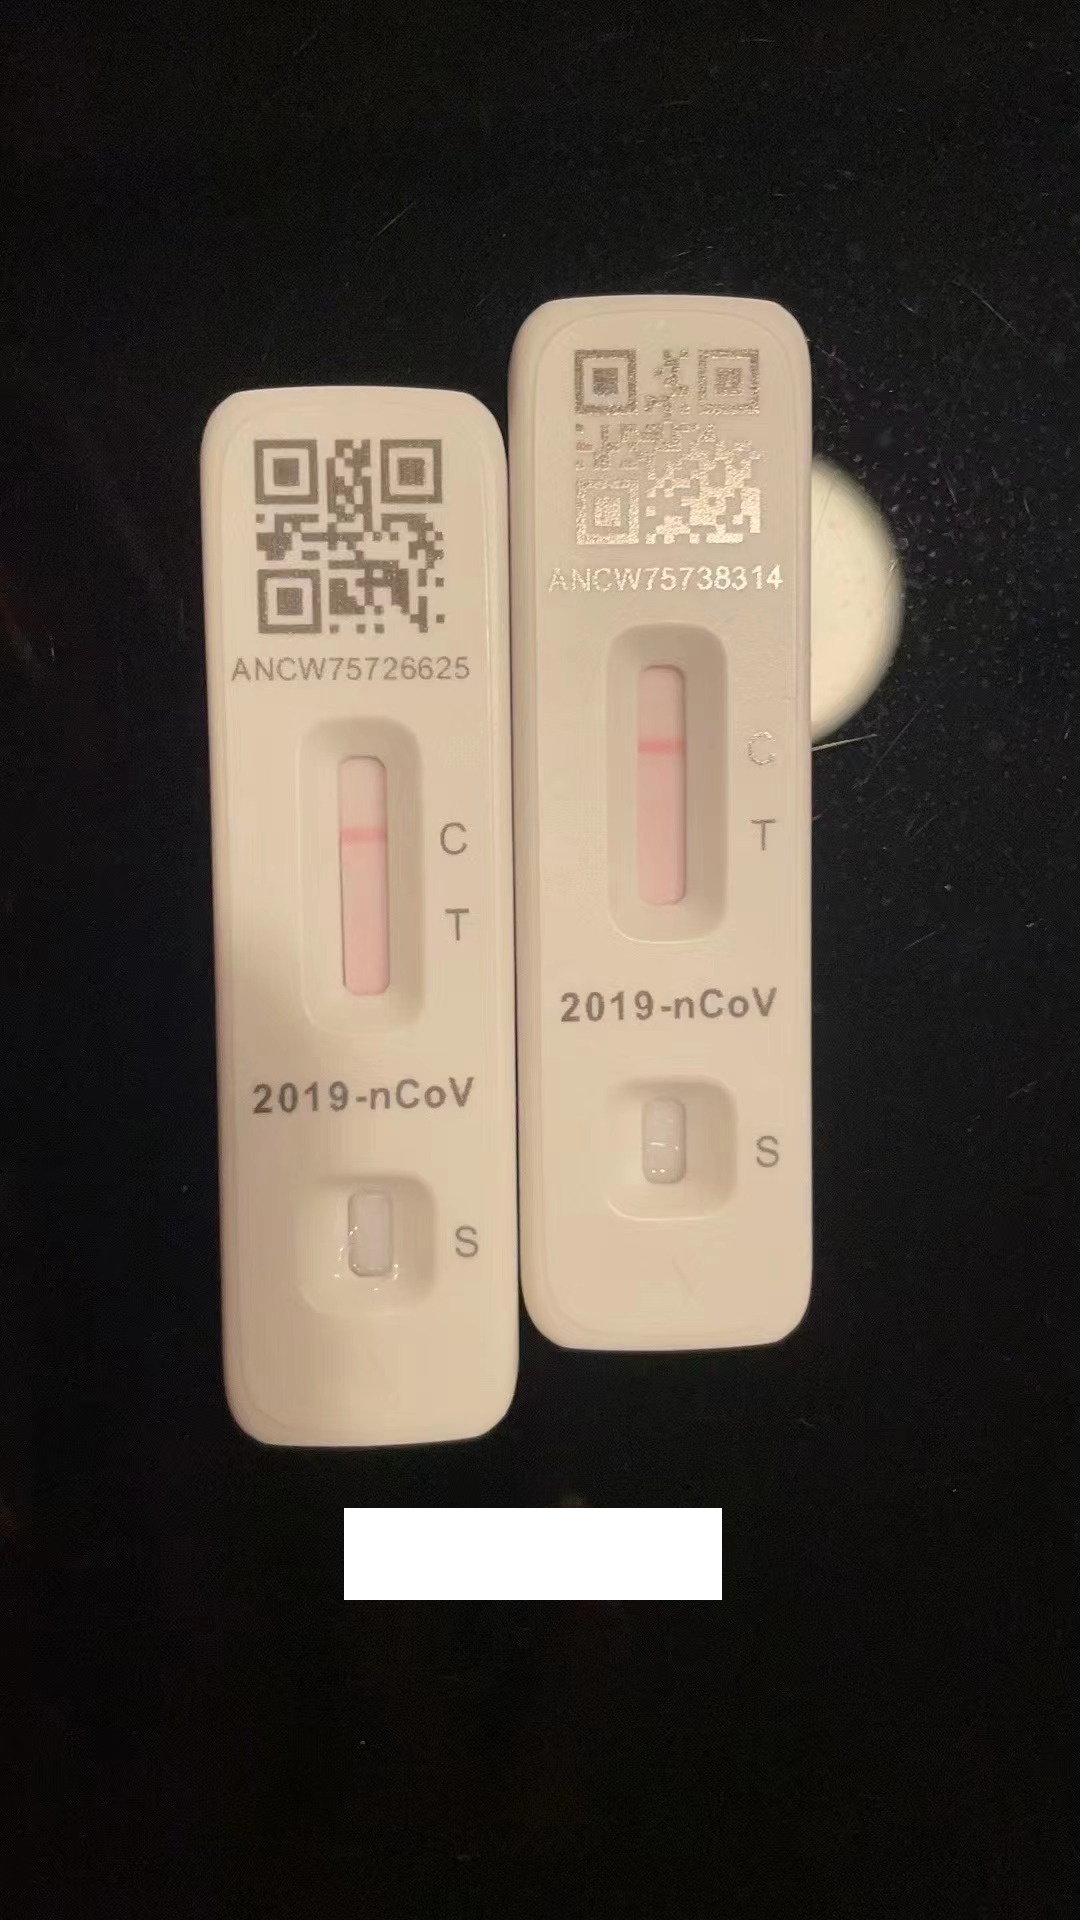negative: (603, 625, 727, 955), (306, 713, 419, 1031)
